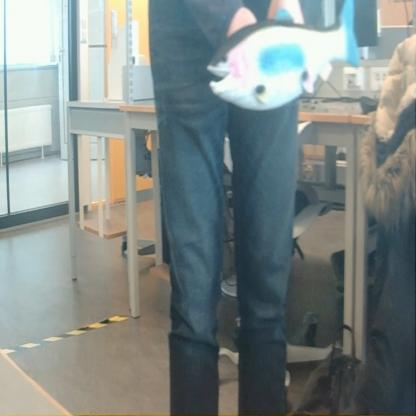rubberfish: (204, 0, 363, 119)
